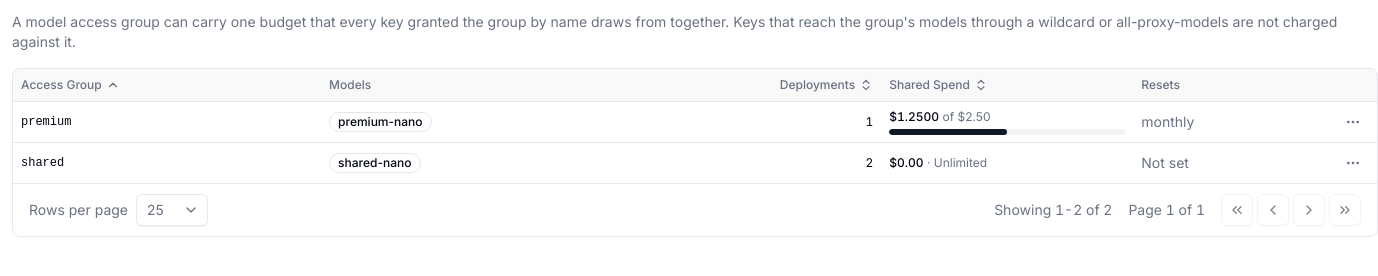
Test: AccessGroupBudgetsPanel › shows a group with no budget as unlimited and offers nothing to clear
The width and height of the screenshot is (1378, 276).
Expected: the text "· Unlimited" is shown, left=927, top=154, right=987, bottom=170
Click the button named "Open budget actions for shared" at (1353, 162), box left=1337, top=146, right=1369, bottom=178
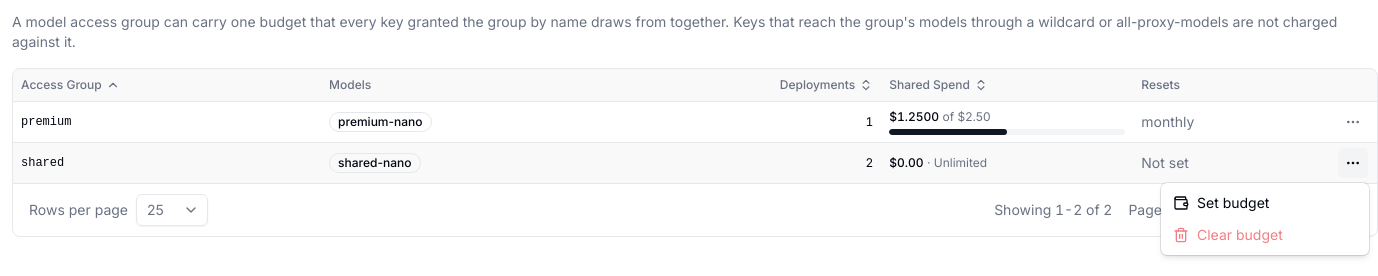
Now the menu item "Set budget" is shown, box left=1173, top=194, right=1269, bottom=211
